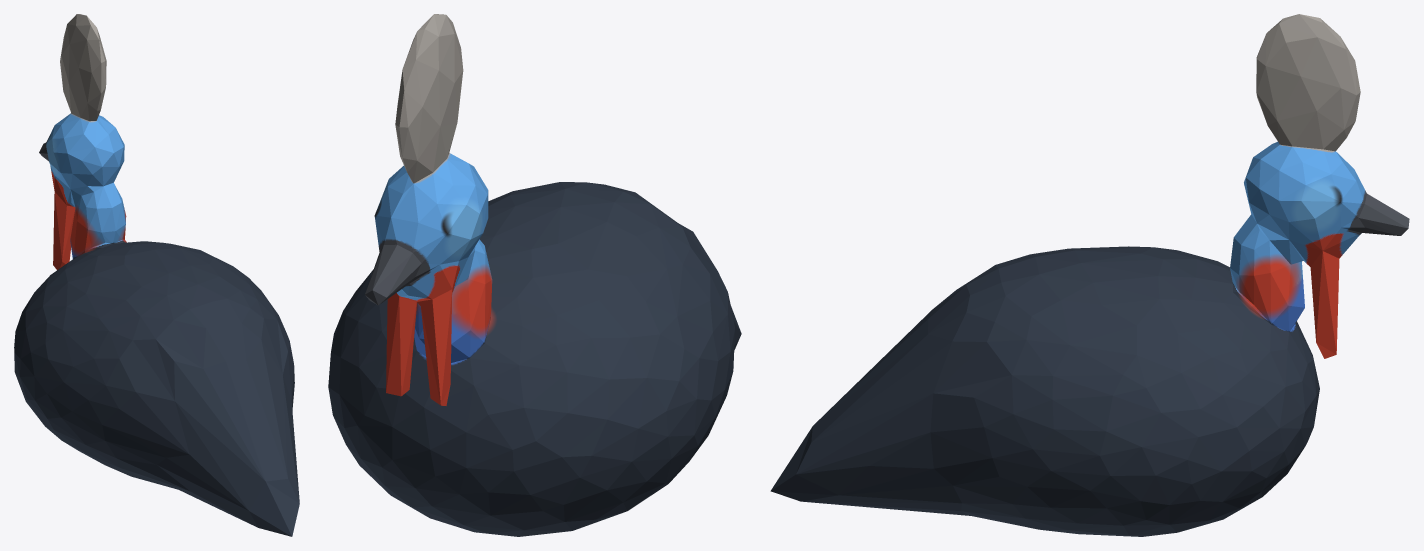
The model's file is animal_cassowary_blob.obj.
3 views of the same model, side by side, from view 1: azimuth 30°, elevation 25°; view 2: azimuth 150°, elevation 25°; view 3: azimuth 270°, elevation 25° (orthographic). The views are drawn at different scales.
Visible parts, largest first — view 1: animal_cassowary_blob; view 2: animal_cassowary_blob; view 3: animal_cassowary_blob.
Part boxes in pixels (x1=…): animal_cassowary_blob: x1=14, y1=14, x2=299, y2=536; animal_cassowary_blob: x1=328, y1=14, x2=741, y2=536; animal_cassowary_blob: x1=770, y1=14, x2=1409, y2=536.
Size of the model in its own units: 0.6618 by 1.06 by 1.22.
